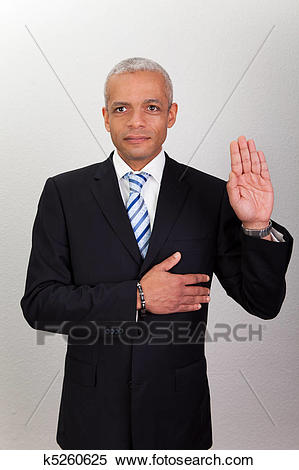open_hand: (211, 128, 290, 234)
